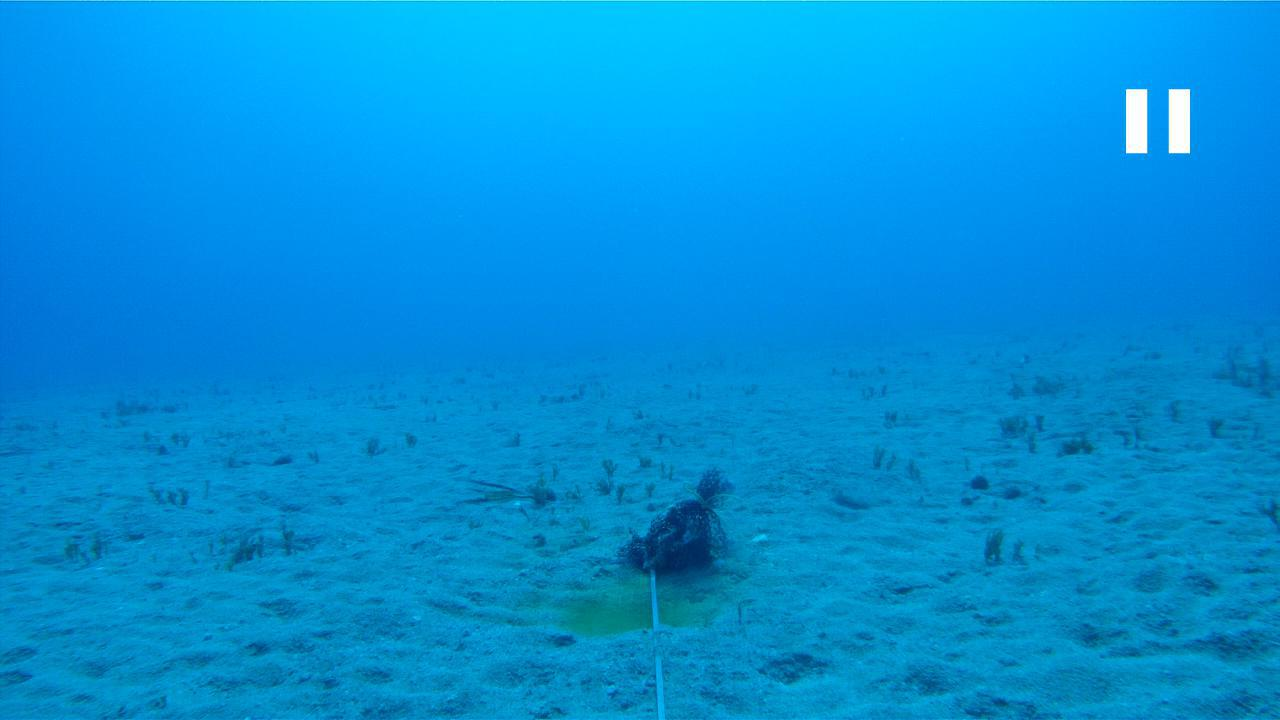bothus: (828, 481, 892, 506)
